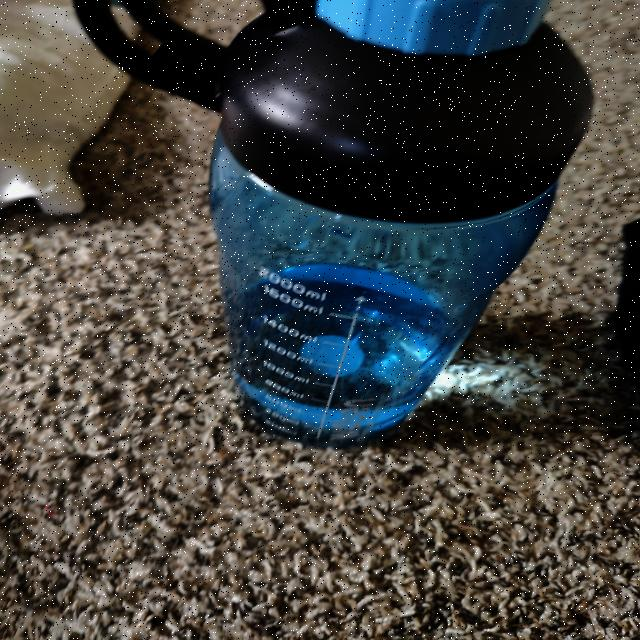bottle: (61, 0, 578, 435)
